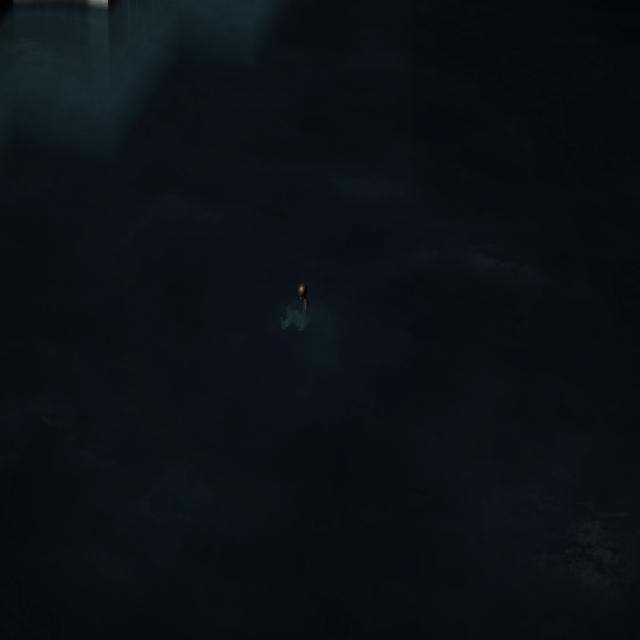Human: (278, 282, 316, 344)
